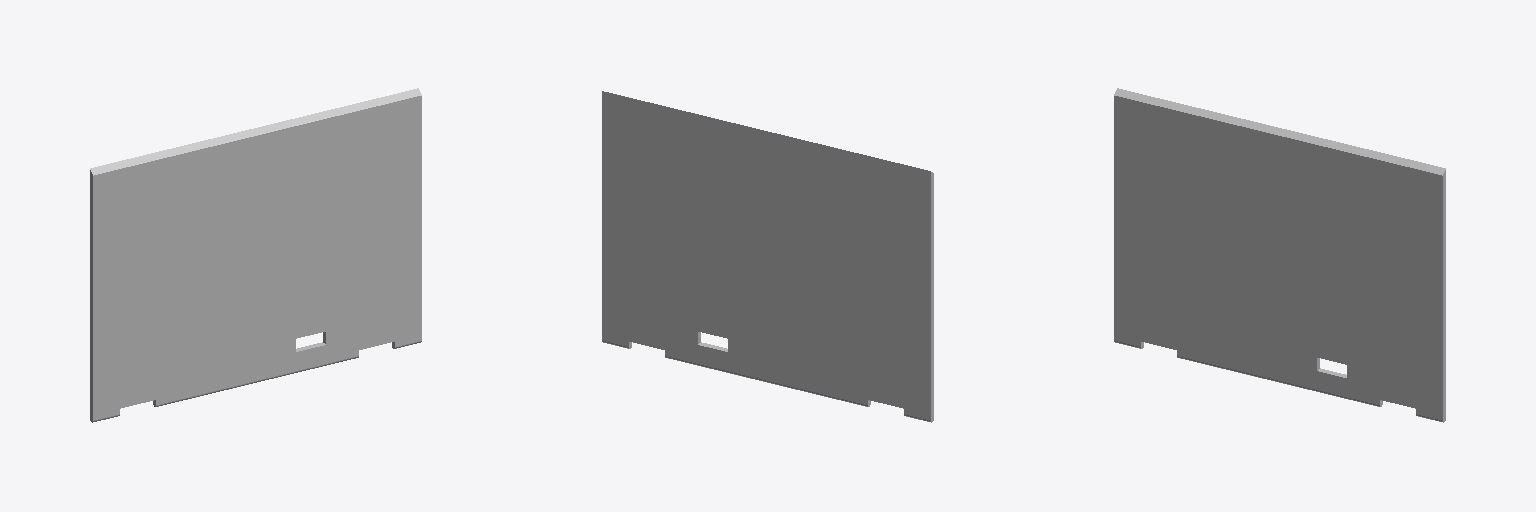
File: screenadjustmentv3.obj
3 renders of one model, left to right at view 1: azimuth 30°, elevation 25°; view 2: azimuth 150°, elevation 25°; view 3: azimuth 330°, elevation 25°, orthographic.
Parts seen in each view (by area): view 1: Body1; view 2: Body1; view 3: Body1.
Boxes of the visible parts, x1=… form: Body1: x1=90, y1=88, x2=421, y2=422; Body1: x1=602, y1=91, x2=933, y2=422; Body1: x1=1114, y1=88, x2=1445, y2=422.
Size of the model in its own units: 30.7 by 22.55 by 0.582.